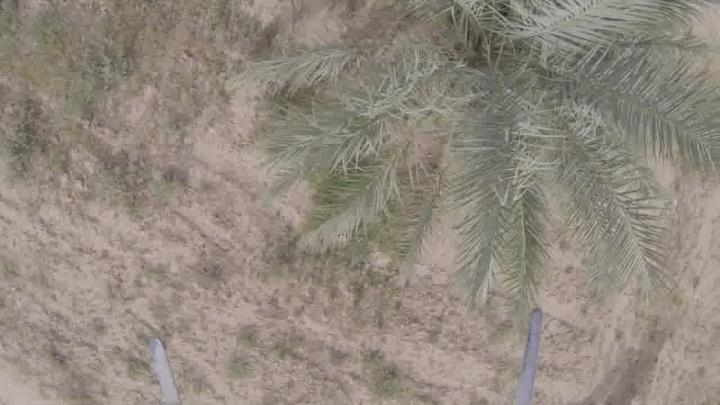Date-Palm-Crown: (336, 0, 660, 222)
